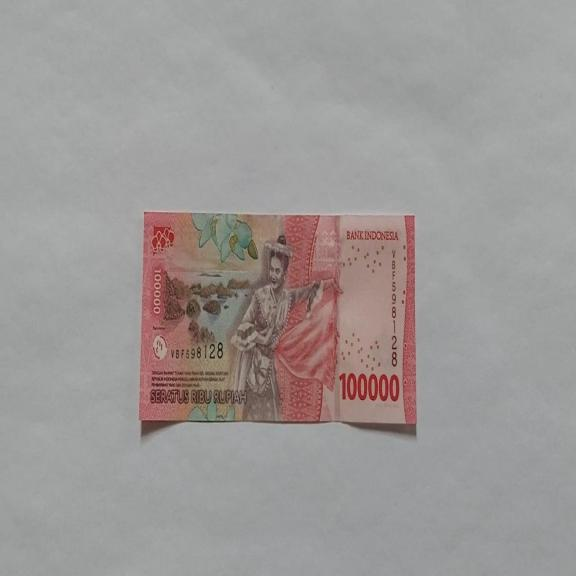Kertas: (139, 210, 416, 428), (338, 370, 400, 403)
